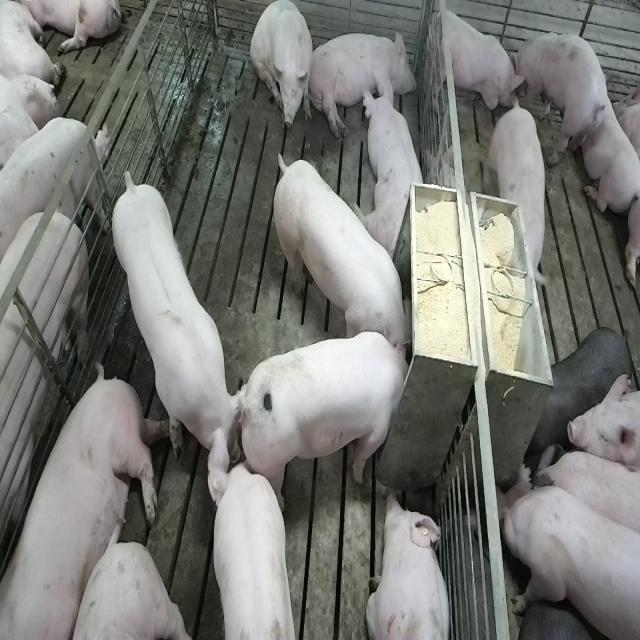Feeding: (269, 144, 411, 359), (245, 331, 419, 496)
Lateral_lying: (3, 364, 170, 640), (307, 28, 417, 141)
Sitting: (422, 0, 520, 123), (251, 2, 315, 136)
Standing: (110, 158, 249, 472), (0, 200, 91, 634), (498, 467, 638, 640), (211, 462, 301, 640), (0, 112, 110, 256), (526, 324, 634, 451), (513, 30, 612, 162), (533, 438, 637, 548), (488, 94, 546, 283)
Sternal_lying: (366, 488, 453, 640), (364, 84, 429, 259), (574, 78, 639, 213)
